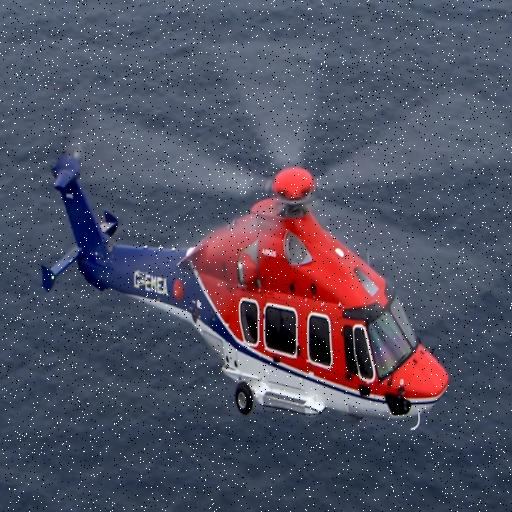helicopter: (9, 38, 481, 492)
